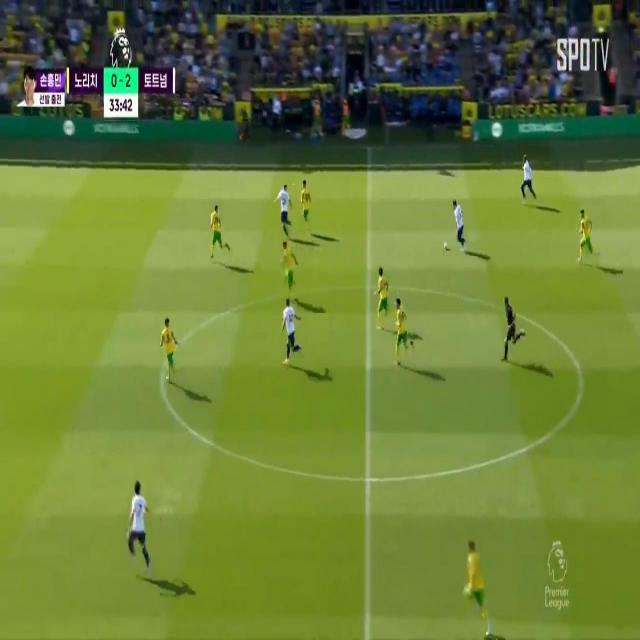ball: (439, 237, 452, 258)
player: (461, 540, 489, 635), (128, 481, 150, 559), (158, 311, 179, 385), (280, 296, 300, 368), (574, 206, 597, 267), (394, 295, 411, 369), (280, 235, 297, 297), (377, 260, 392, 328), (452, 198, 469, 253), (519, 157, 538, 205), (209, 202, 226, 255), (278, 179, 293, 239), (300, 174, 314, 230)
referee: (502, 291, 527, 360)
